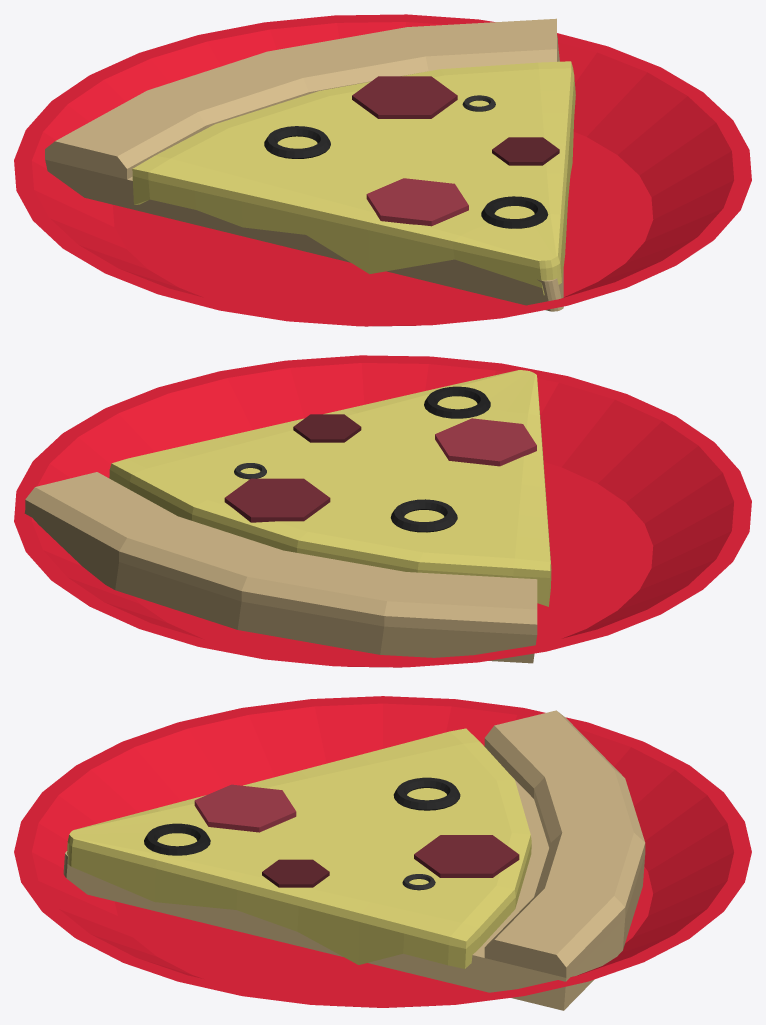
Rendered from pizza.glb.
3 views of the same model, one above another, from view 1: azimuth 30°, elevation 25°; view 2: azimuth 150°, elevation 25°; view 3: azimuth 270°, elevation 25° (orthographic).
Visible parts, largest first — view 1: Cone, Circle.001, Circle, Circle.003, Circle.002, Circle.004, Torus, Torus.001; view 2: Cone, Circle.001, Circle, Circle.003, Circle.002, Circle.004, Torus, Torus.001; view 3: Cone, Circle.001, Circle, Circle.003, Circle.002, Circle.004, Torus, Torus.001.
Boxes of the visible parts, box(x1,y1,x2,y2) form: Cone: box(14, 14, 751, 326); Circle.001: box(132, 61, 575, 295); Circle: box(45, 18, 563, 311); Circle.003: box(366, 178, 468, 226); Circle.002: box(352, 76, 457, 118); Circle.004: box(492, 137, 559, 165); Torus: box(264, 126, 330, 158); Torus.001: box(481, 196, 548, 228); Cone: box(14, 355, 751, 667); Circle.001: box(109, 370, 551, 606); Circle: box(24, 472, 537, 663); Circle.003: box(435, 418, 536, 466); Circle.002: box(224, 478, 330, 522); Circle.004: box(293, 414, 361, 442); Torus: box(390, 499, 457, 532); Torus.001: box(424, 386, 490, 418); Cone: box(14, 696, 751, 1007); Circle.001: box(67, 728, 531, 968); Circle: box(63, 710, 645, 1010); Circle.003: box(194, 784, 296, 832); Circle.002: box(414, 835, 519, 877); Circle.004: box(262, 859, 329, 887); Torus: box(393, 777, 460, 810); Torus.001: box(144, 823, 210, 855).
Size of the model in its own units: 1.25 by 0.1359 by 1.25.
